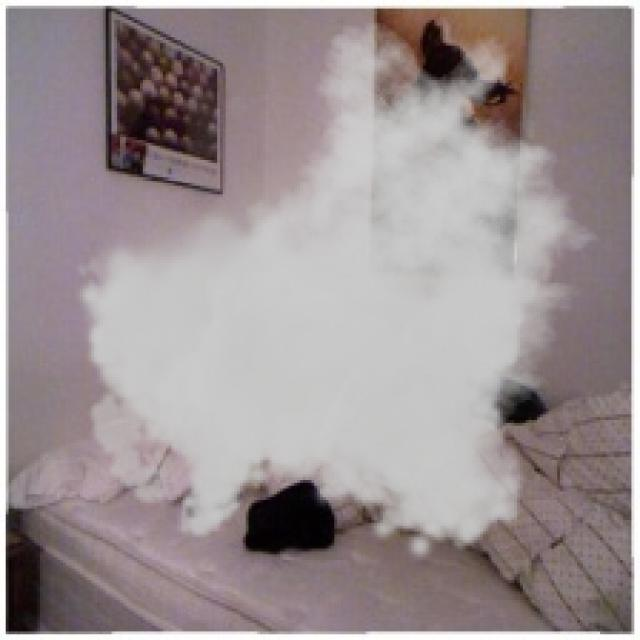smoke: (74, 20, 617, 563)
